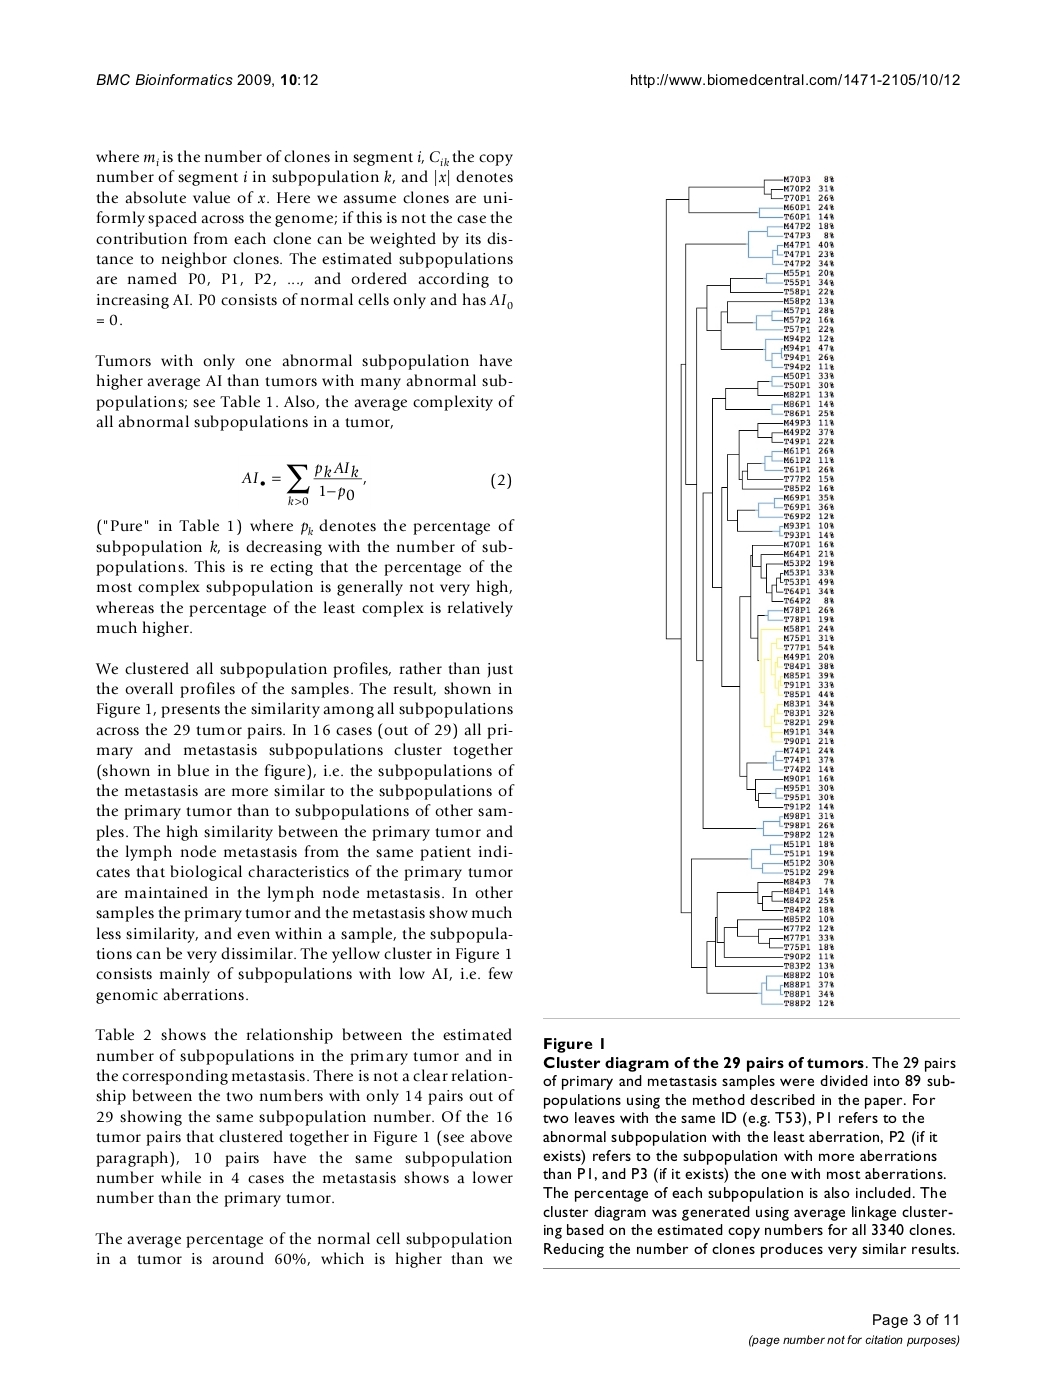figure: (665, 174, 833, 1007)
formula: (241, 461, 512, 506)
